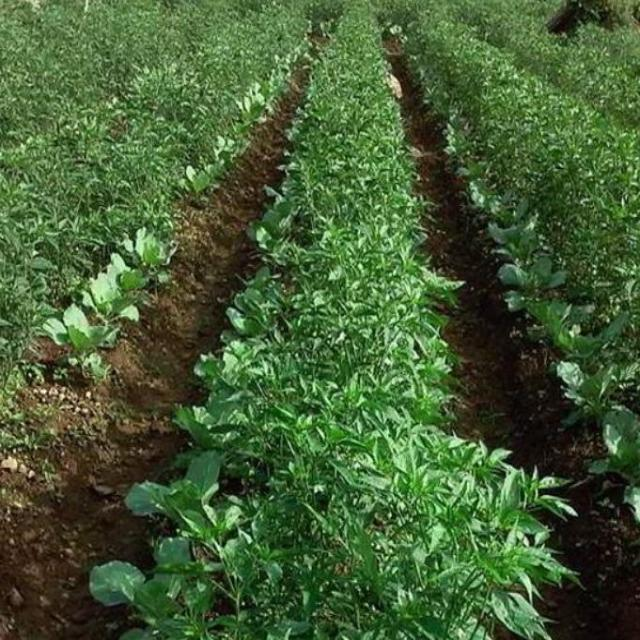row: (1, 14, 341, 640), (383, 23, 640, 640)
